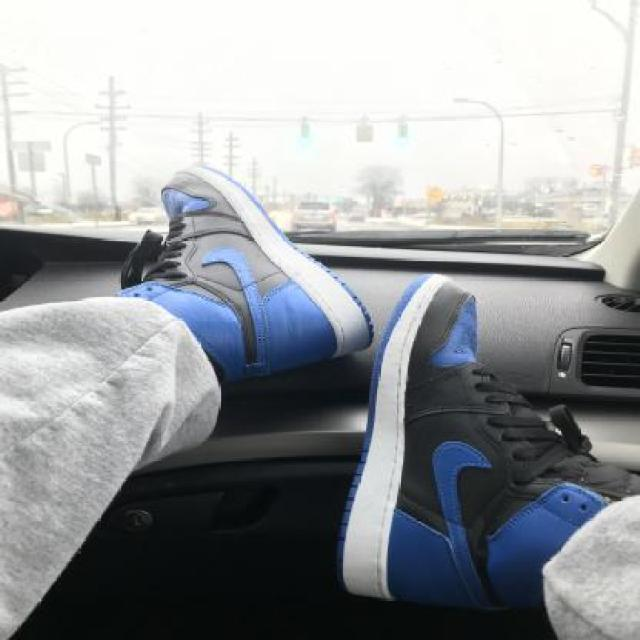shoe: (372, 272, 640, 612), (126, 164, 374, 396)
